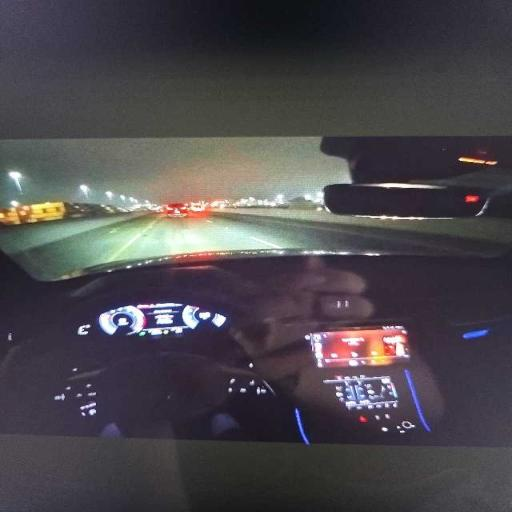car: (0, 139, 511, 471), (165, 203, 188, 217)
lane: (15, 214, 418, 279)
